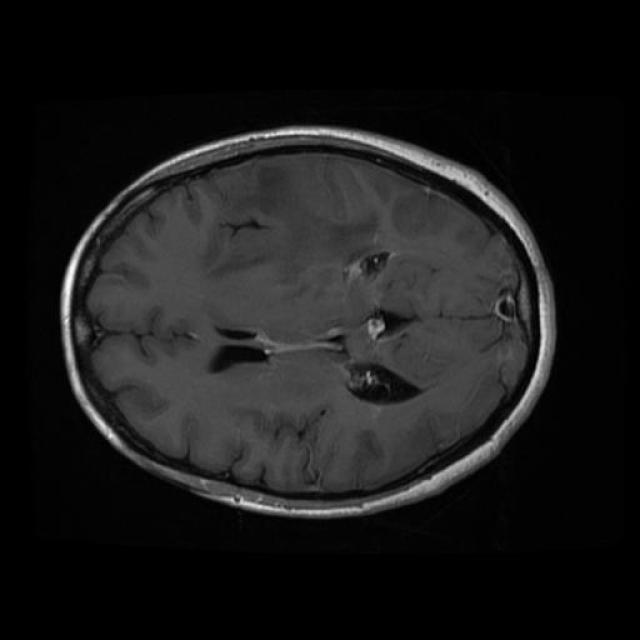Glioma: (208, 153, 377, 273)
